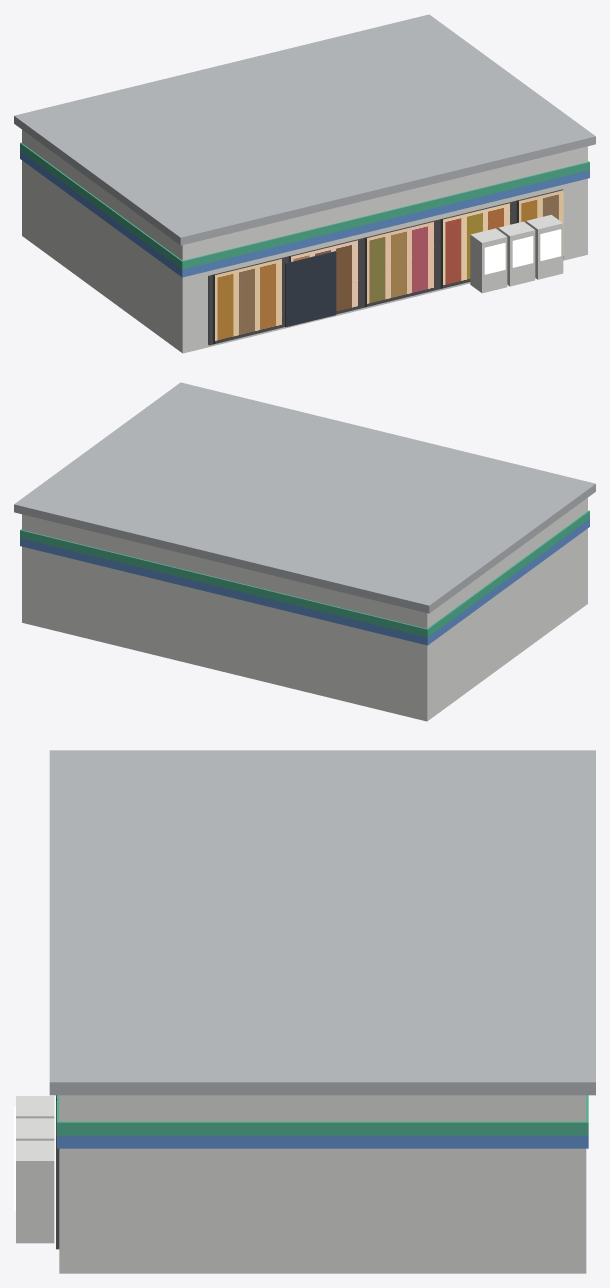
File: konbini.glb
3 renders of one model, top to bottom at view 1: azimuth 30°, elevation 25°; view 2: azimuth 150°, elevation 25°; view 3: azimuth 270°, elevation 25°, orthographic. The views are drawn at different scales.
Visible parts, largest first — view 1: konbini; view 2: konbini; view 3: konbini.
Boxes of the visible parts, x1,y1,x2,y2 form: konbini: (14,14,595,353); konbini: (14,382,595,721); konbini: (14,750,595,1273).
Bounding box in the file's own units: 16.4 × 4.5 × 12.14.
Materials: 7 (1 with a texture image).
